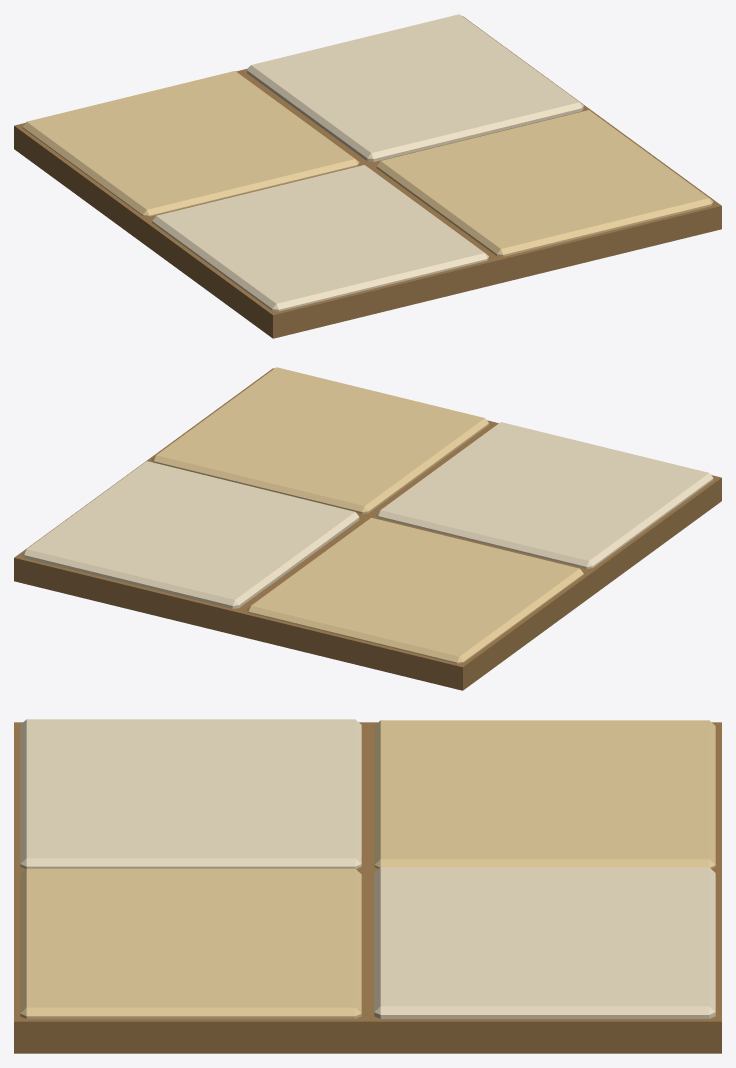
Rendered from desert_tile_a.glb.
3 views of the same model, one above another, from view 1: azimuth 30°, elevation 25°; view 2: azimuth 150°, elevation 25°; view 3: azimuth 270°, elevation 25° (orthographic). The views are drawn at different scales.
Parts seen in each view (by area): view 1: desert_tile_a; view 2: desert_tile_a; view 3: desert_tile_a.
Boxes of the visible parts, x1,y1,x2,y2 form: desert_tile_a: [14, 14, 721, 338]; desert_tile_a: [14, 367, 721, 690]; desert_tile_a: [14, 719, 721, 1053].
Bounding box in the file's own units: 2 × 0.1308 × 2.
